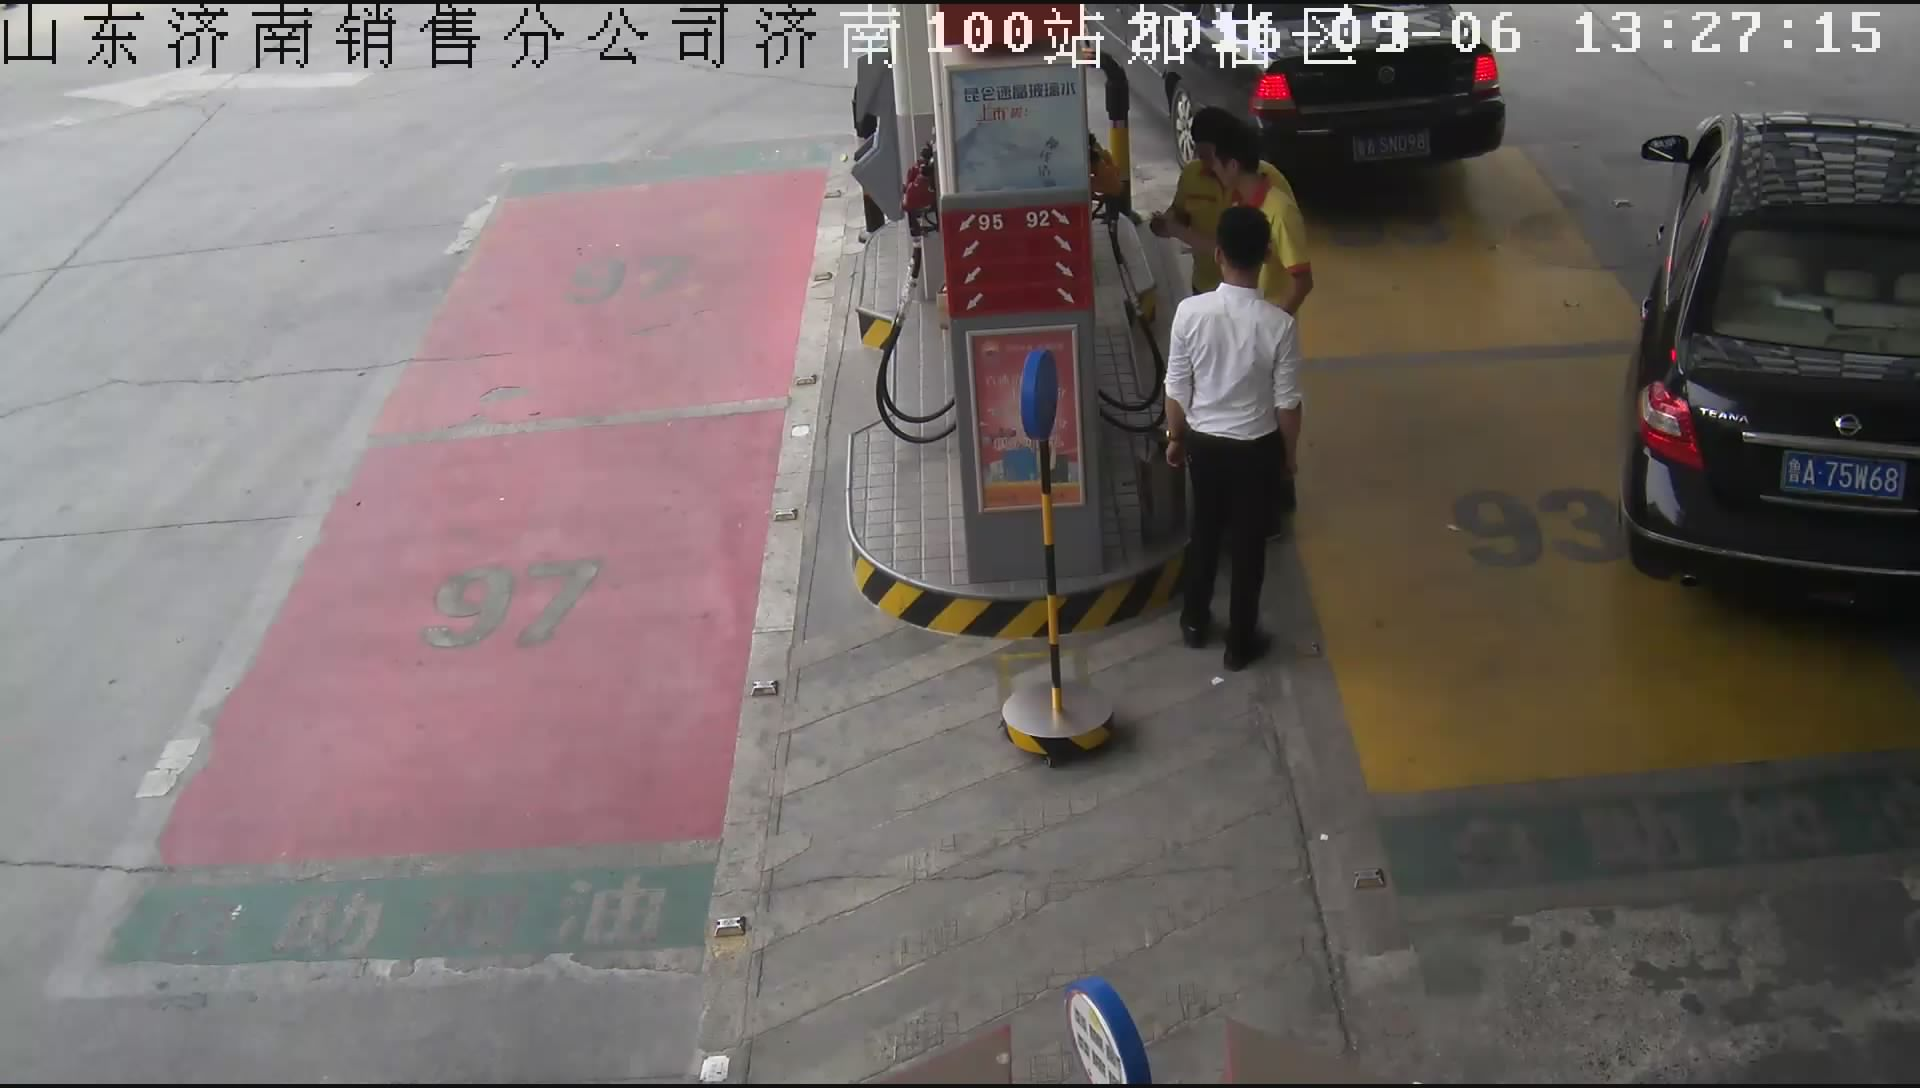blue: (1779, 448, 1909, 504)
